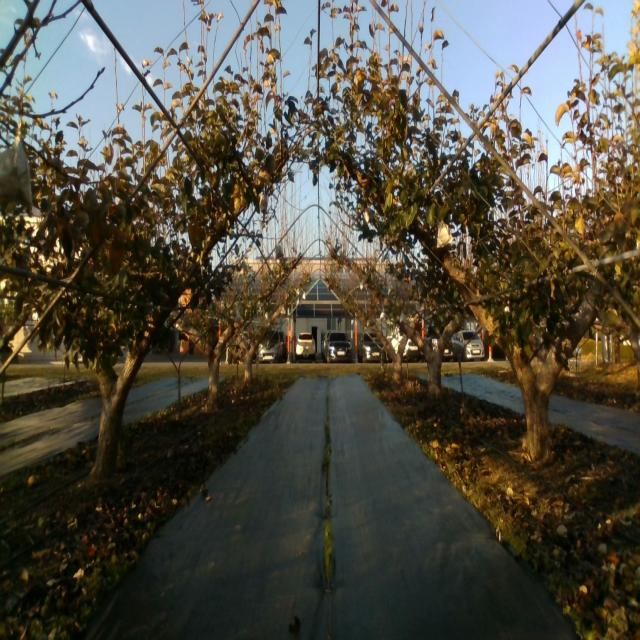pearbags: (0, 135, 33, 212), (437, 218, 452, 250)
